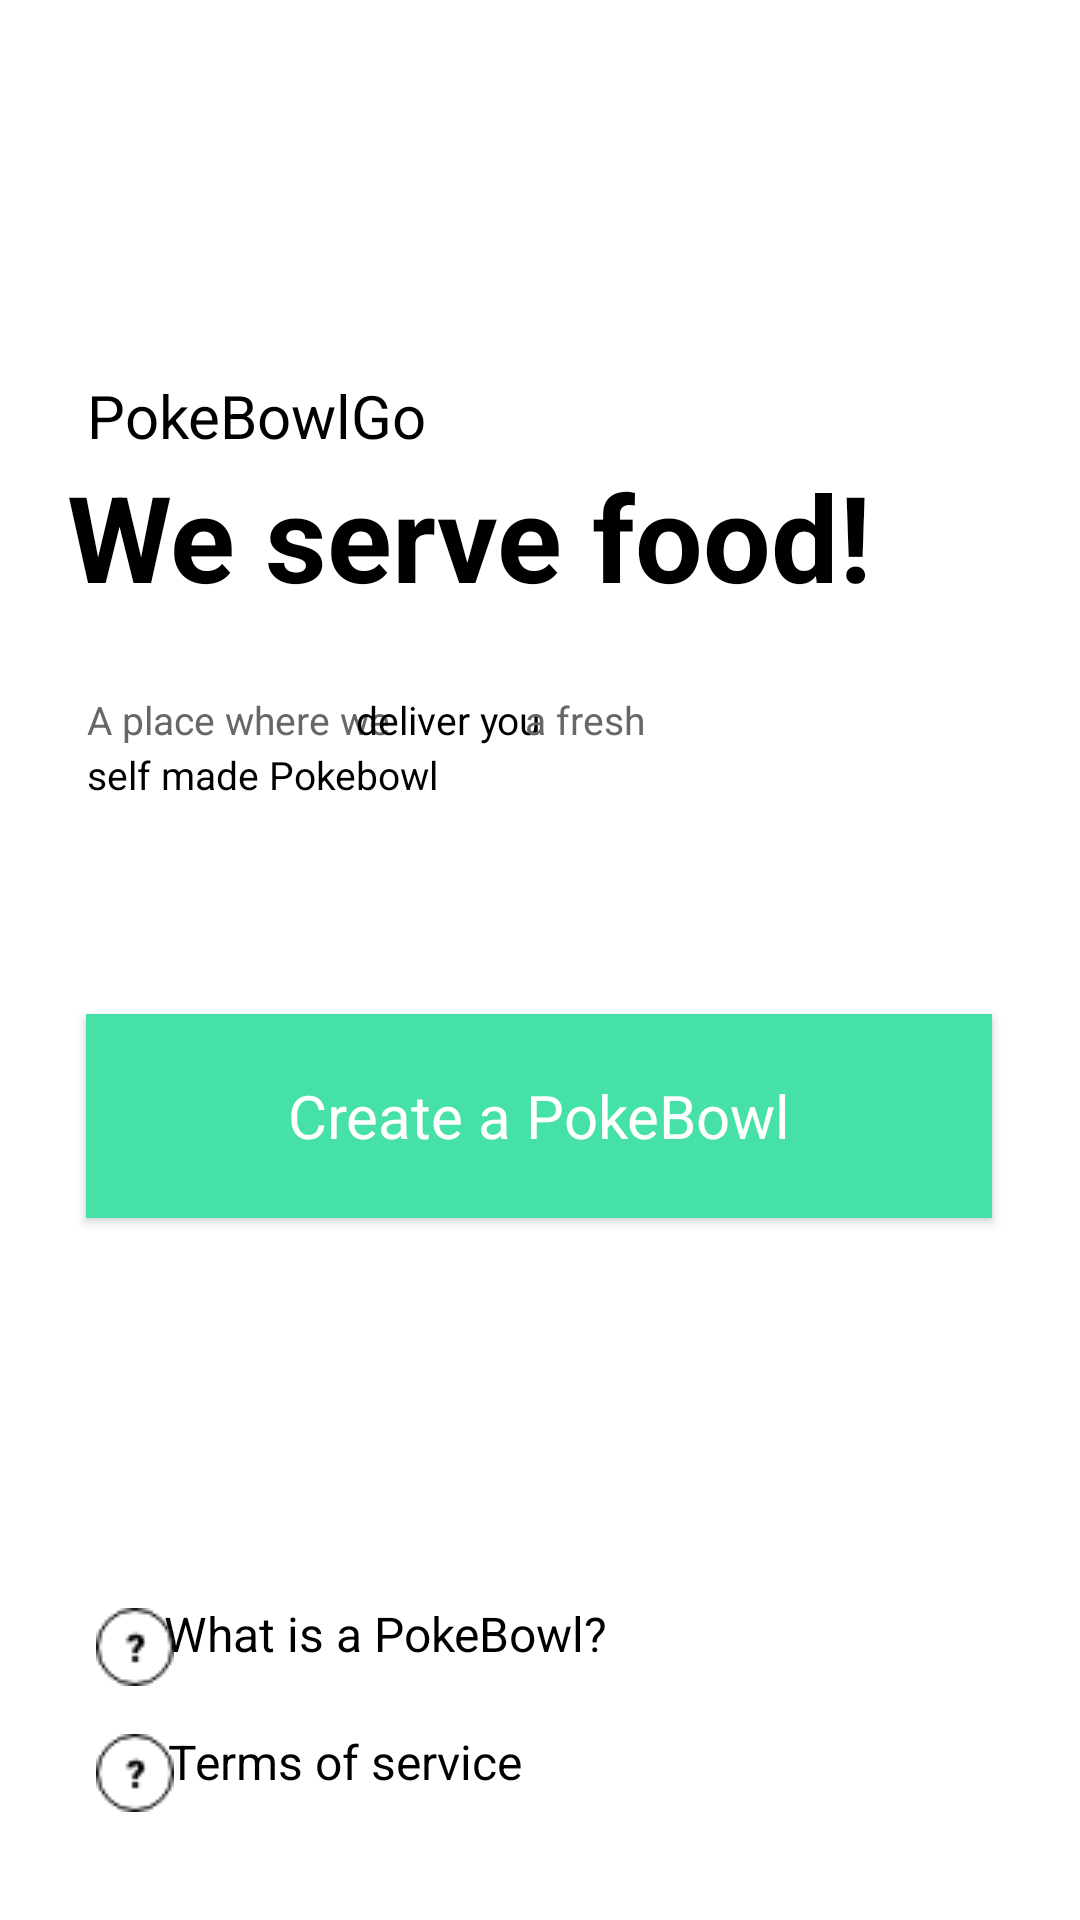

Screen size 1080 × 1920. Icon name, then its box in pixels as (x1, y1, x2, y2):
Questionmark: (96, 1608, 174, 1686), (96, 1734, 174, 1812)
